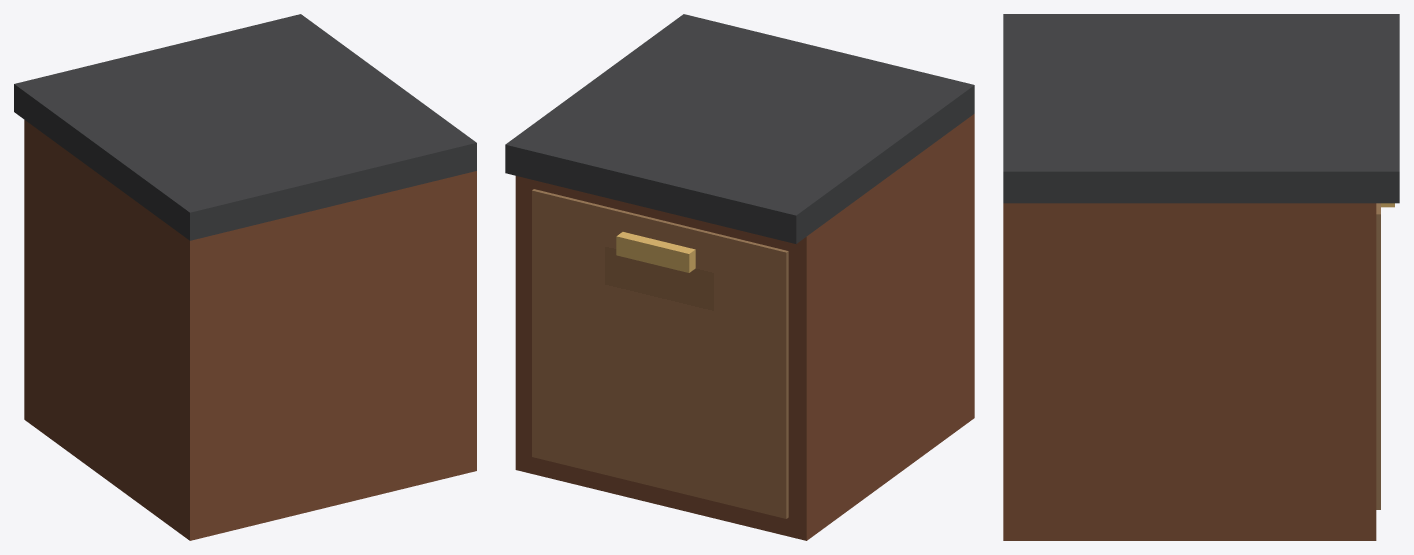
File: cabinet2.fbx
The picture shows the model from 3 angles, left to right: view 1: azimuth 30°, elevation 25°; view 2: azimuth 150°, elevation 25°; view 3: azimuth 270°, elevation 25°; orthographic projection. The views are drawn at different scales.
Visible parts, largest first — view 1: cube, cube_1; view 2: cube, cube_2, cube_1, cube_3; view 3: cube, cube_1, cube_2.
Boxes of the visible parts, x1,y1,x2,y2 form: cube: [24, 120, 476, 540]; cube_1: [14, 14, 476, 240]; cube: [515, 114, 974, 540]; cube_2: [532, 189, 788, 518]; cube_1: [505, 14, 974, 243]; cube_3: [616, 232, 695, 272]; cube: [1003, 203, 1376, 540]; cube_1: [1003, 14, 1399, 203]; cube_2: [1376, 203, 1380, 509].
Bounding box in the file's own units: 50 × 54.69 × 53.12.
Materials: 1 (1 with a texture image).
